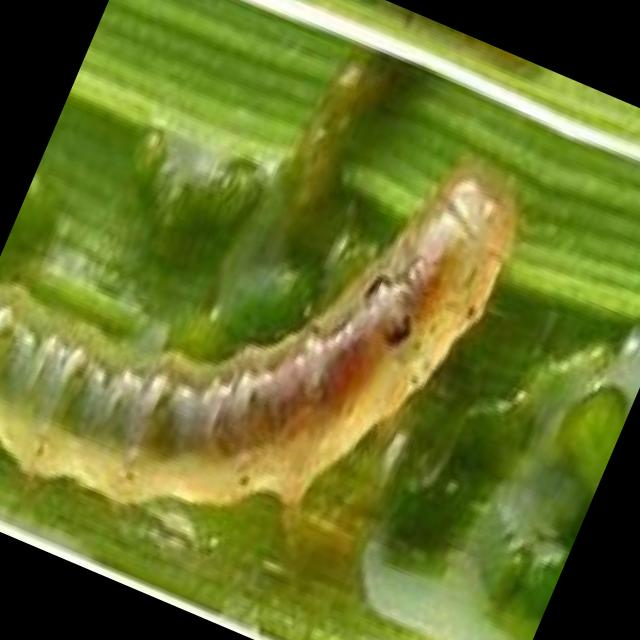leaf-folder: (0, 0, 565, 628)
